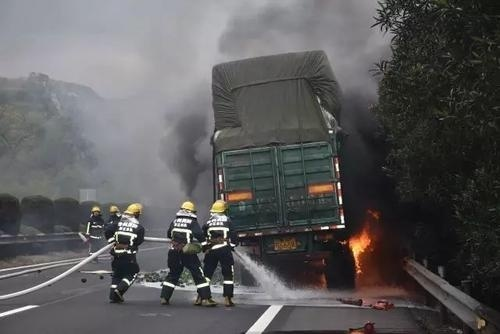fire: (345, 209, 378, 278)
